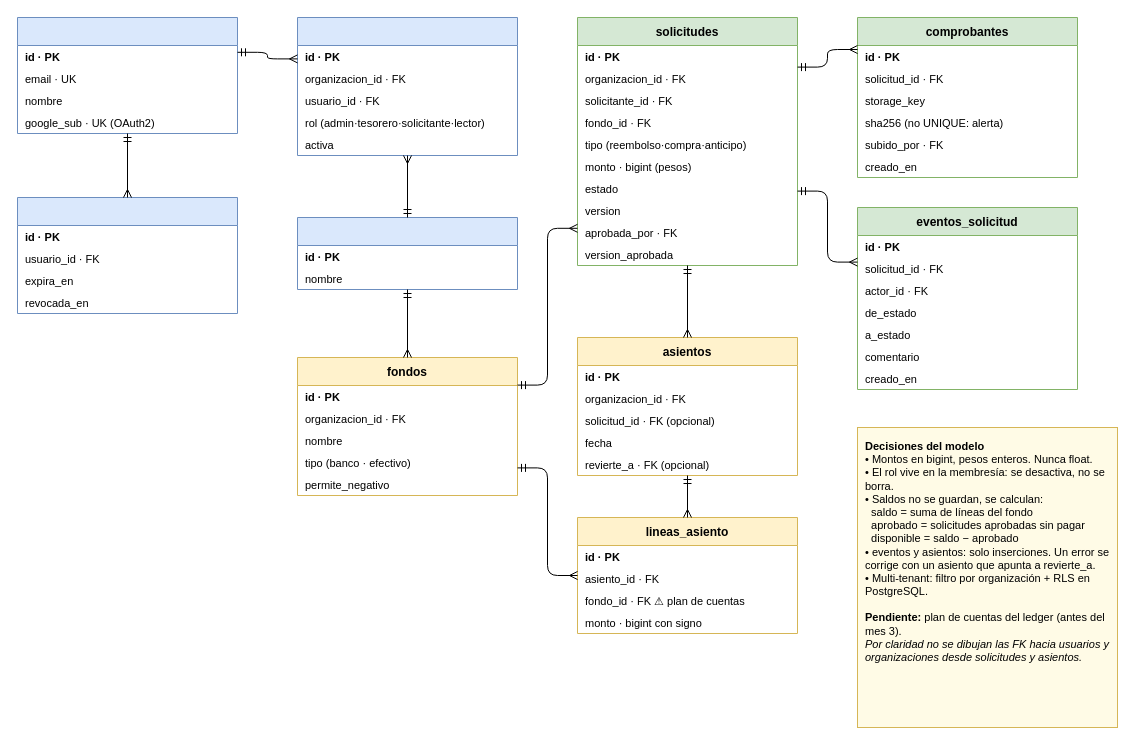
Image size: 1135x745. Some labels were removed from this diagram. Each missing label, with the box of its shape:
membresias: (296, 16, 518, 156)
organizaciones: (296, 216, 518, 290)
sesiones: (16, 196, 238, 314)
usuarios: (16, 16, 238, 134)
